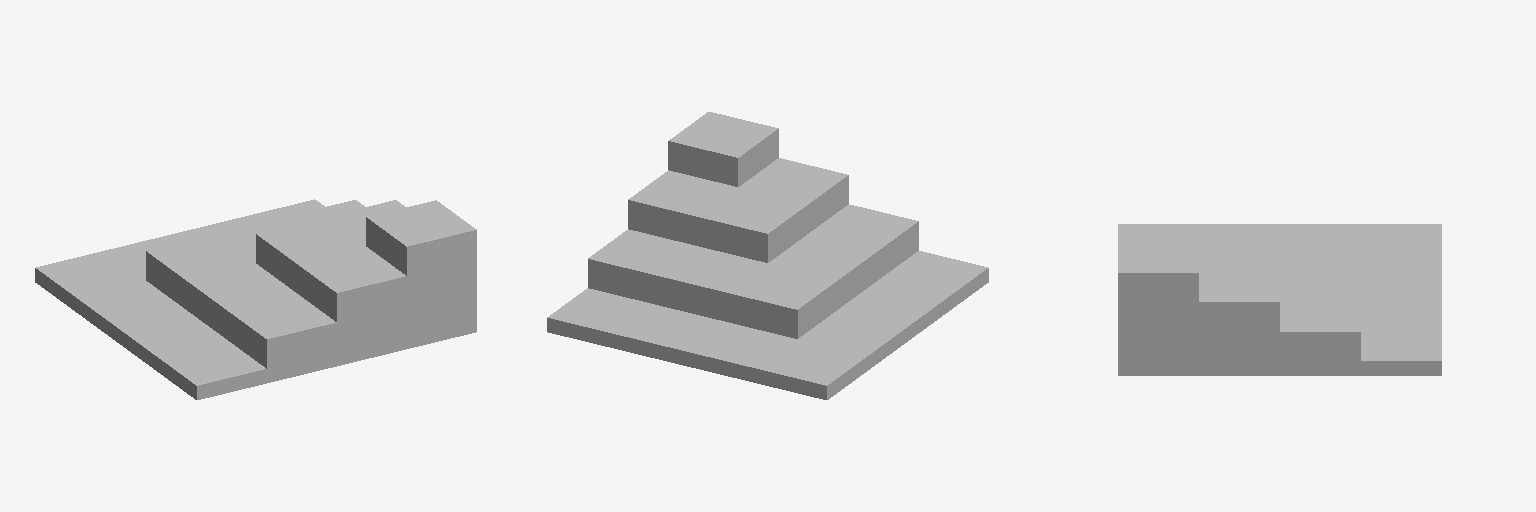
Rendered from floor-stairs-corner-outer.obj.
3 renders of one model, left to right at view 1: azimuth 30°, elevation 25°; view 2: azimuth 150°, elevation 25°; view 3: azimuth 270°, elevation 25°, orthographic.
Visible parts, largest first — view 1: floor-stairs-corner-outer; view 2: floor-stairs-corner-outer; view 3: floor-stairs-corner-outer.
Part boxes in pixels (left/top/right/bottom): floor-stairs-corner-outer: left=35, top=199, right=476, bottom=399; floor-stairs-corner-outer: left=547, top=112, right=988, bottom=399; floor-stairs-corner-outer: left=1118, top=224, right=1441, bottom=375.
Bounding box in the file's own units: 1 × 0.35 × 1.